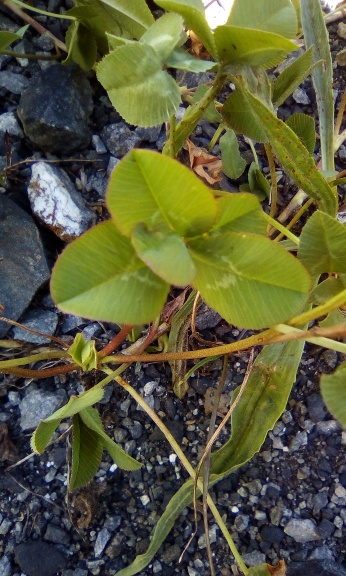4leaf: (49, 148, 311, 330)
